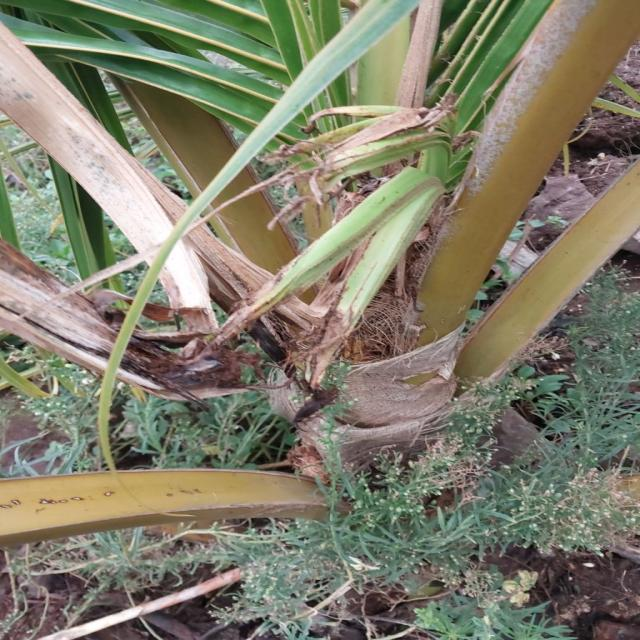bud rot: (0, 0, 638, 460), (3, 461, 313, 529)
